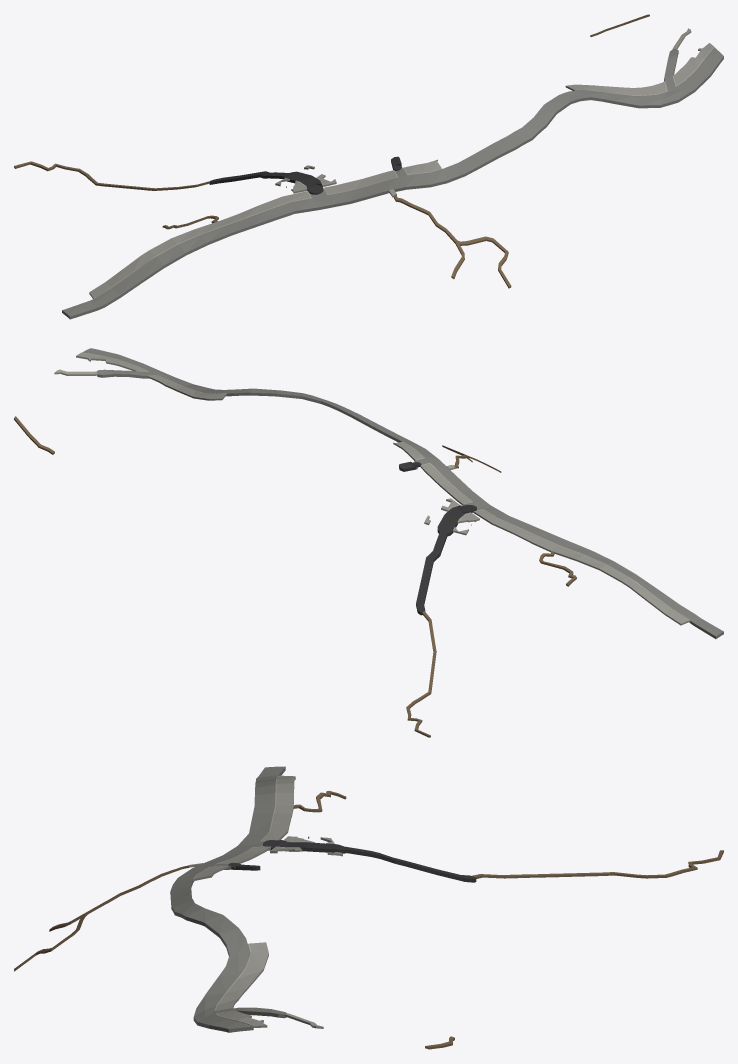
The picture shows the model from 3 angles, top to bottom: view 1: azimuth 30°, elevation 25°; view 2: azimuth 150°, elevation 25°; view 3: azimuth 270°, elevation 25°; orthographic projection. The views are drawn at different scales.
Size of the model in its own units: 293 by 54.37 by 213.
